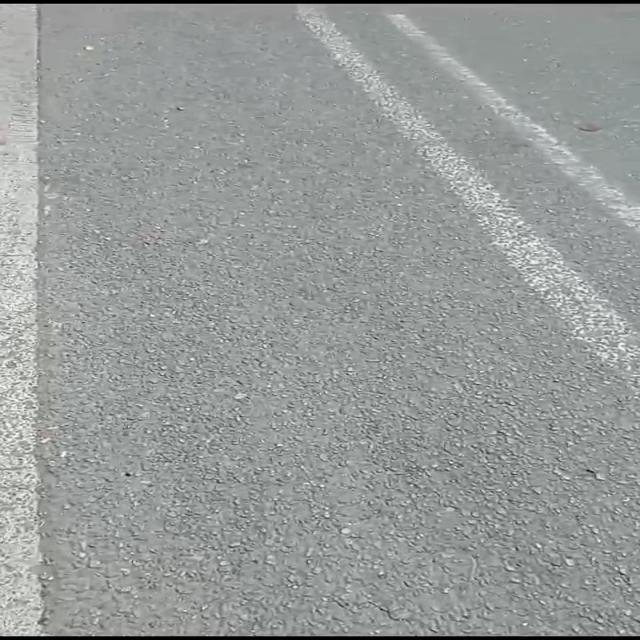Sambungan: (0, 2, 54, 640)
